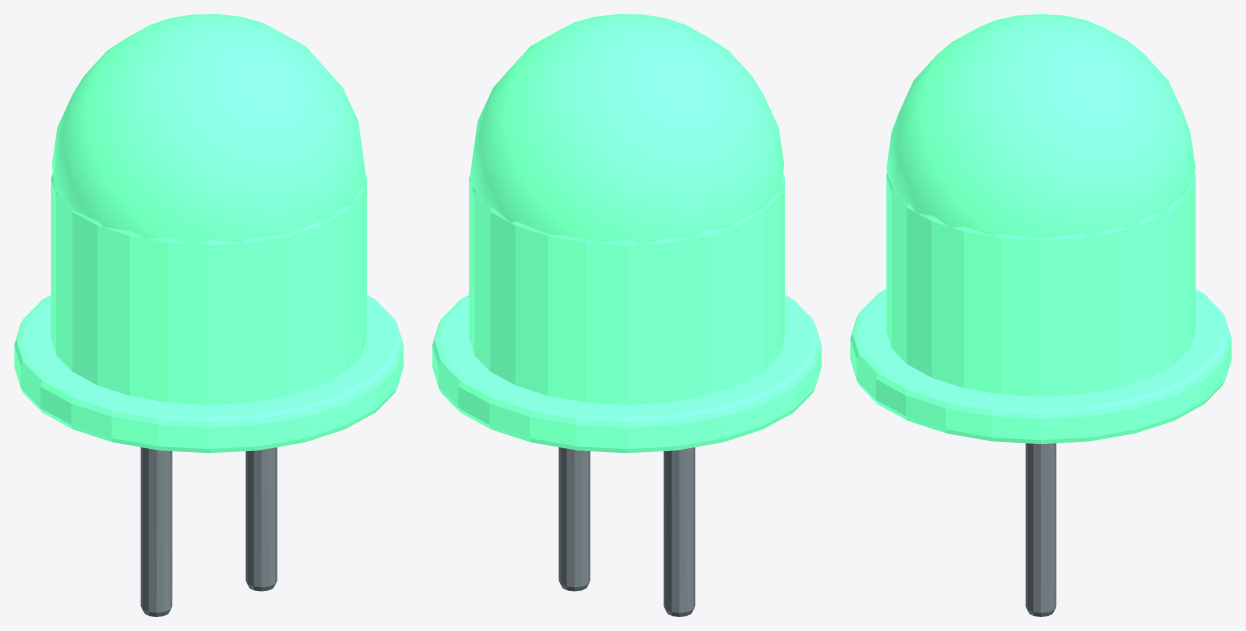
The model's file is led.glb.
The picture shows the model from 3 angles, left to right: view 1: azimuth 30°, elevation 25°; view 2: azimuth 150°, elevation 25°; view 3: azimuth 270°, elevation 25°; orthographic projection. The views are drawn at different scales.
Parts seen in each view (by area): view 1: led; view 2: led; view 3: led.
Boxes of the visible parts, box(x1,y1,x2,y2) form: led: box(14, 14, 403, 616); led: box(432, 14, 821, 616); led: box(850, 14, 1231, 616).
Size of the model in its own units: 0.148 by 0.24 by 0.148.
